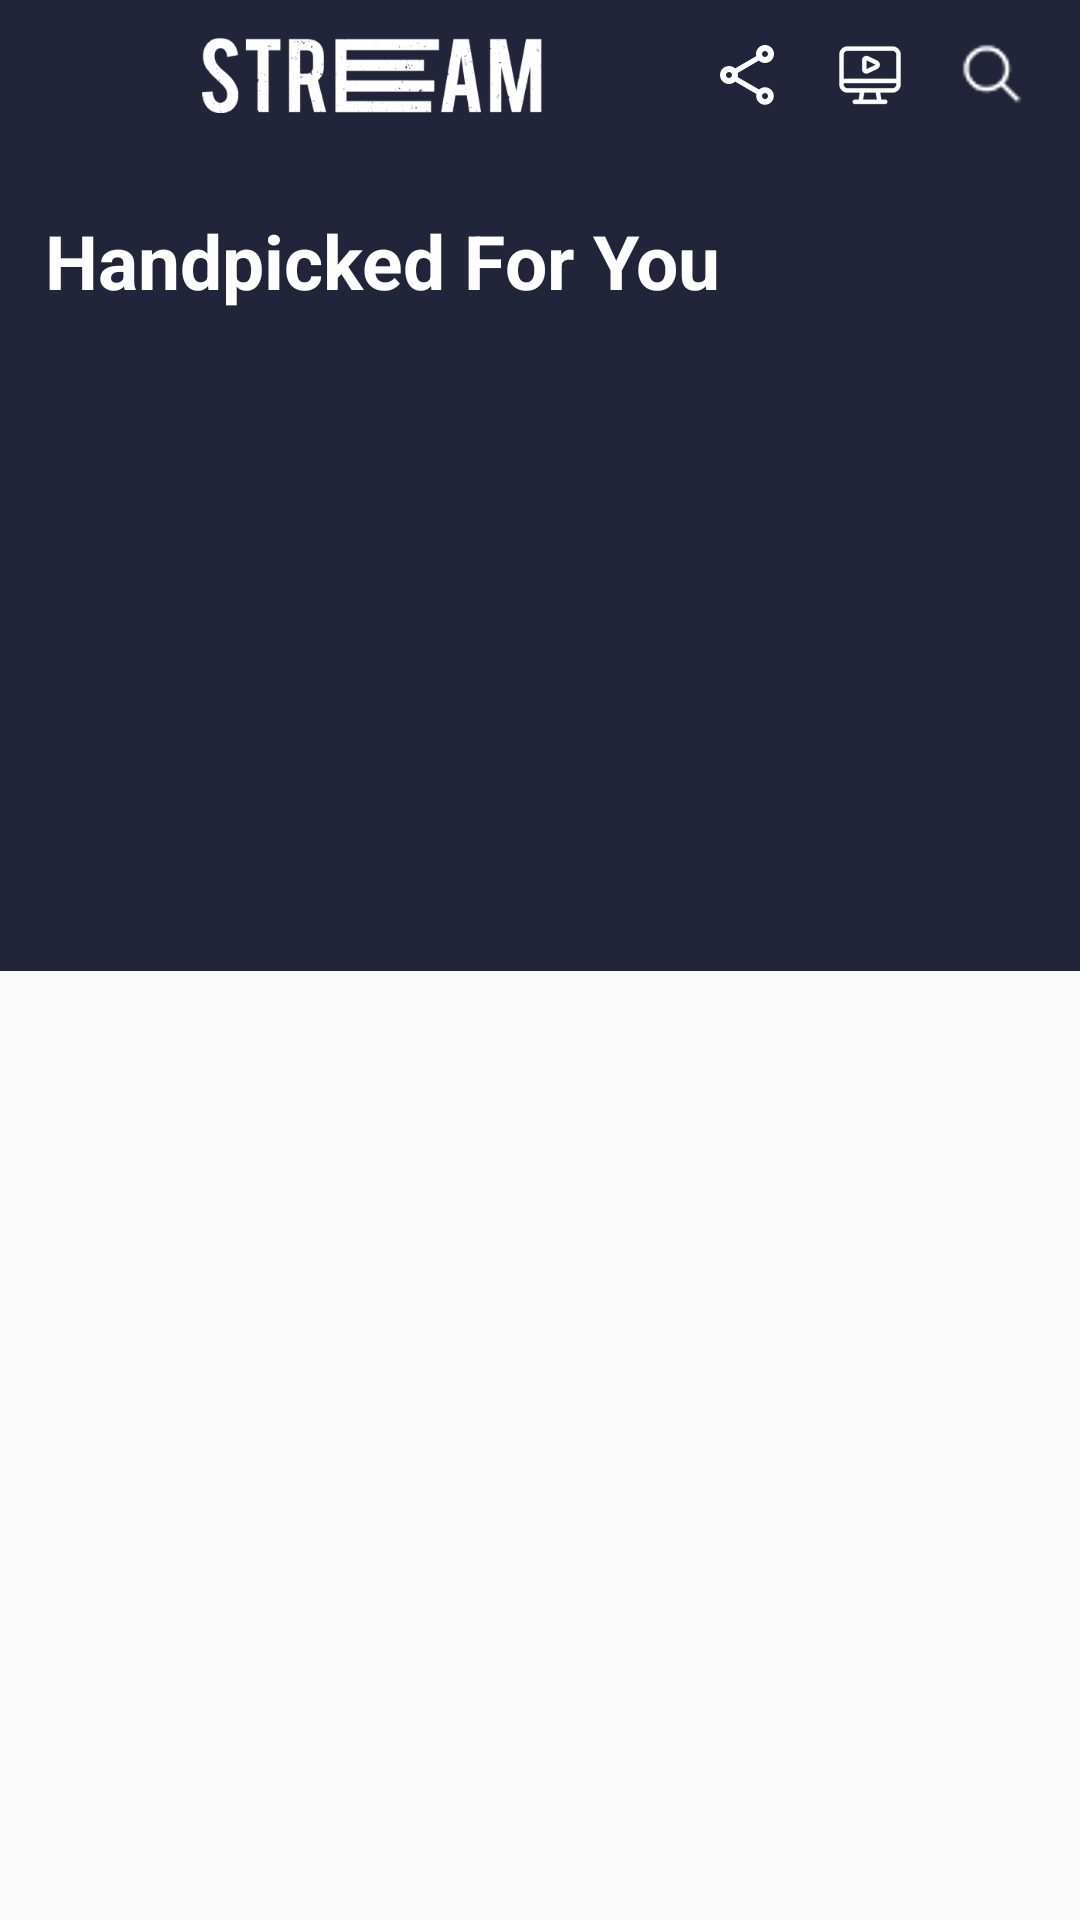

Locate icon controls on the screen. Image size 1080*1920, boxes as [x1=x1, y1=y1, x2=x2, y2=y2].
search: [x1=963, y1=45, x2=1021, y2=103]
share: [x1=720, y1=45, x2=774, y2=105]
video player: [x1=839, y1=46, x2=901, y2=105]
